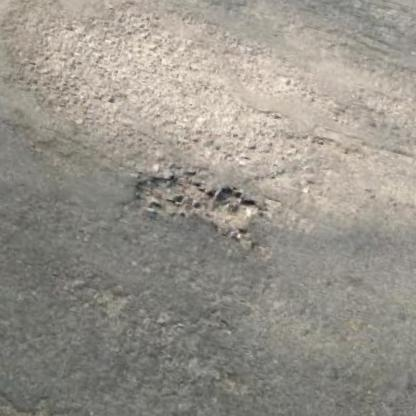pothole: (129, 160, 274, 248)
